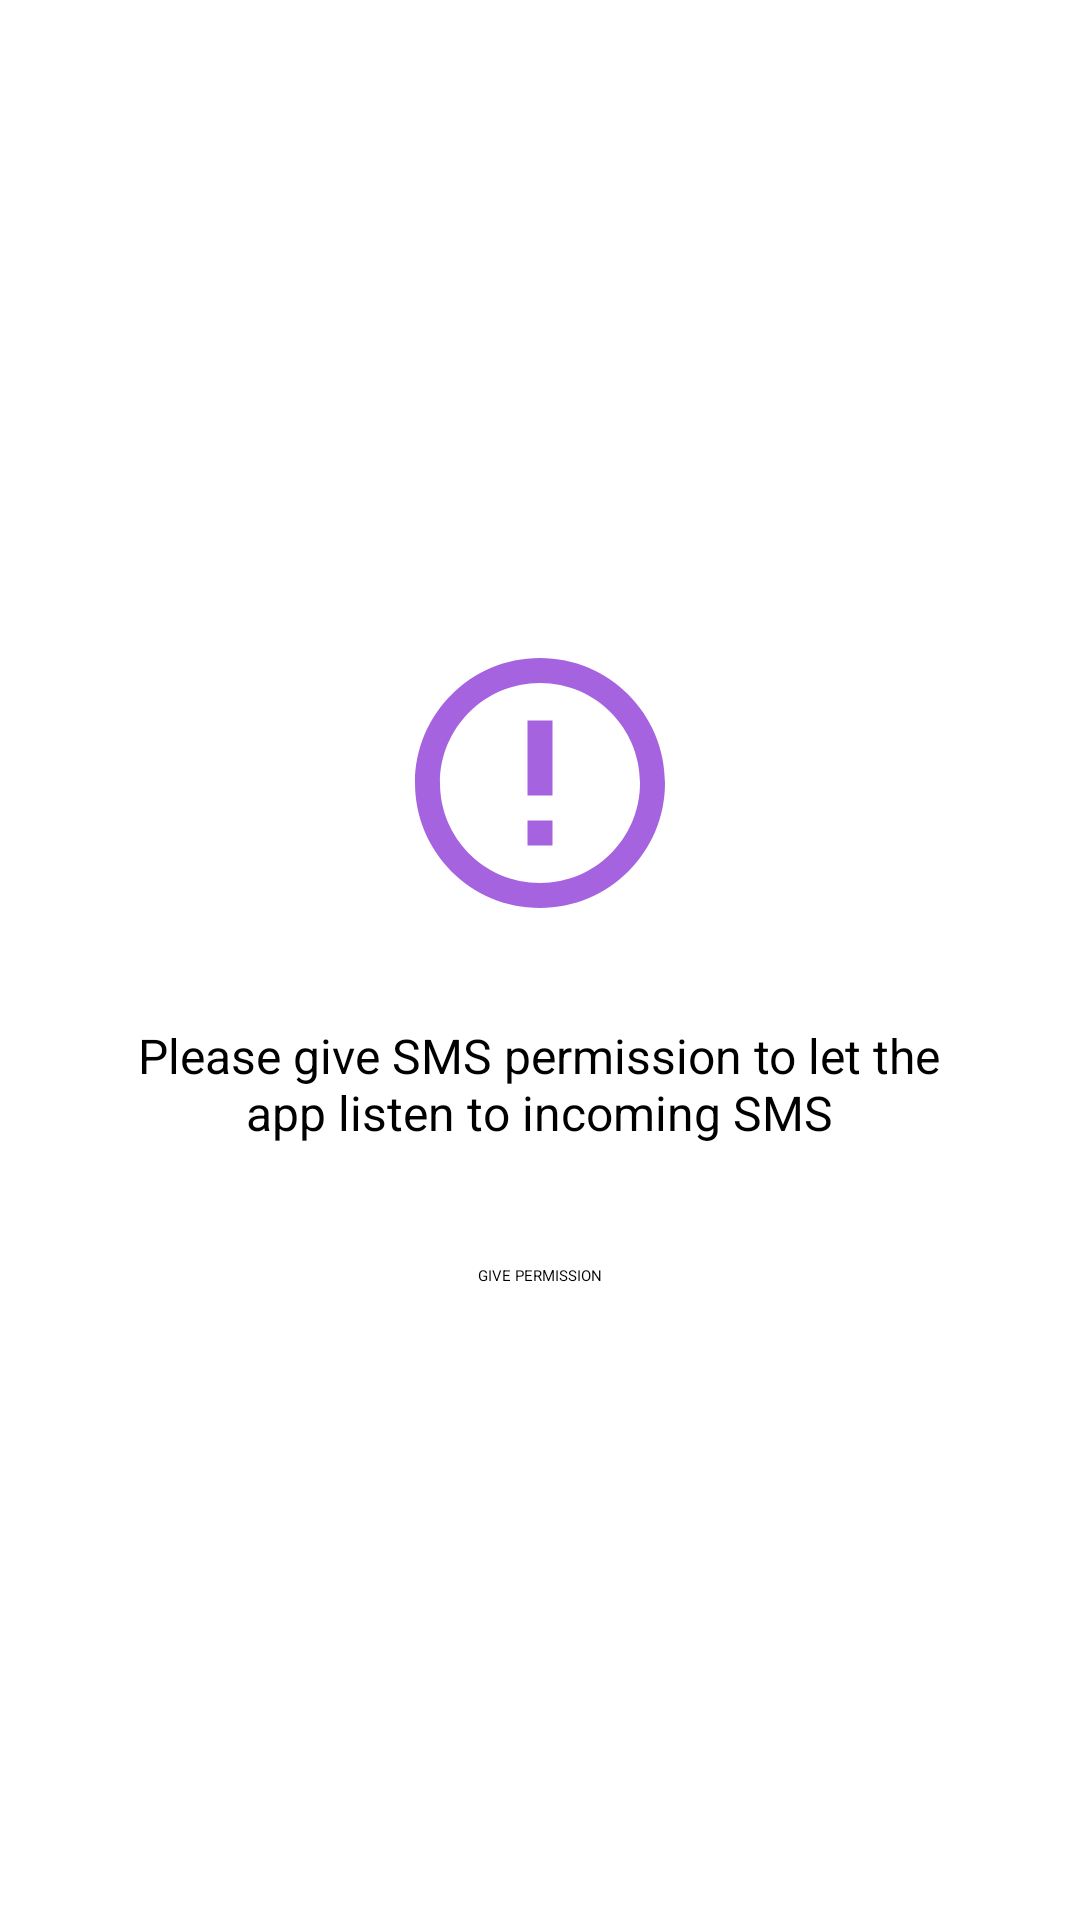

Icon click points for this 1080w x 1920h phone screenshot, format (x=x, y=y):
warning: (x=540, y=783)
